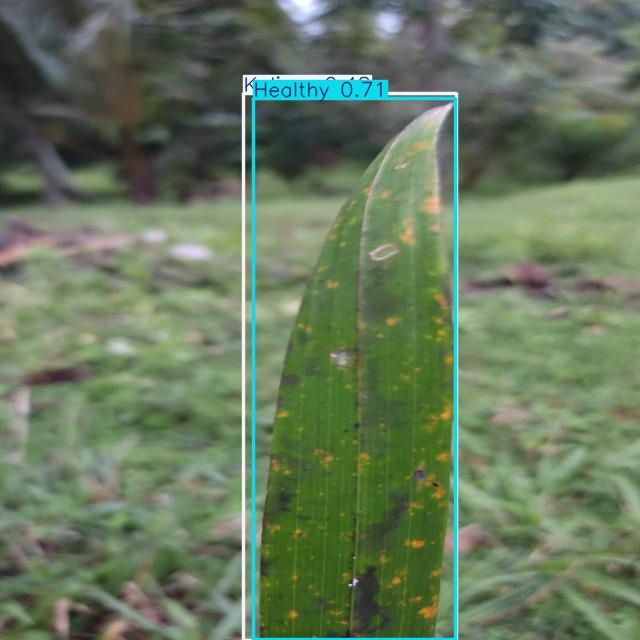Healthy: (253, 98, 455, 640)
Kalium: (244, 93, 457, 640)
